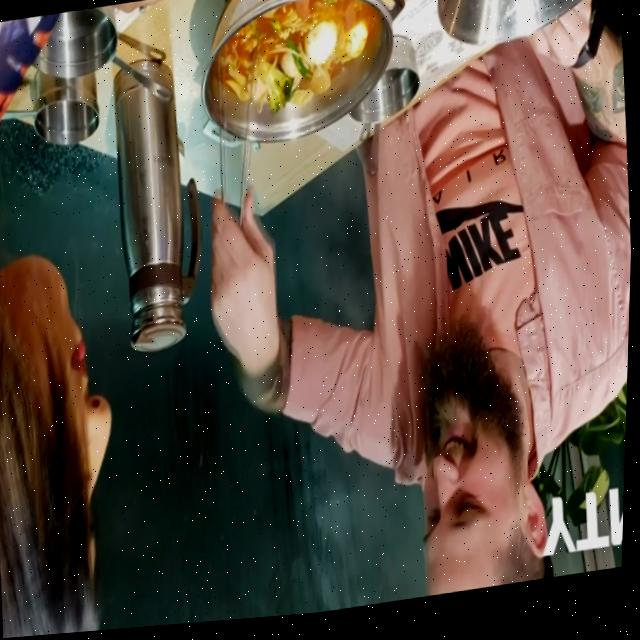eating-person: (168, 0, 640, 628)
